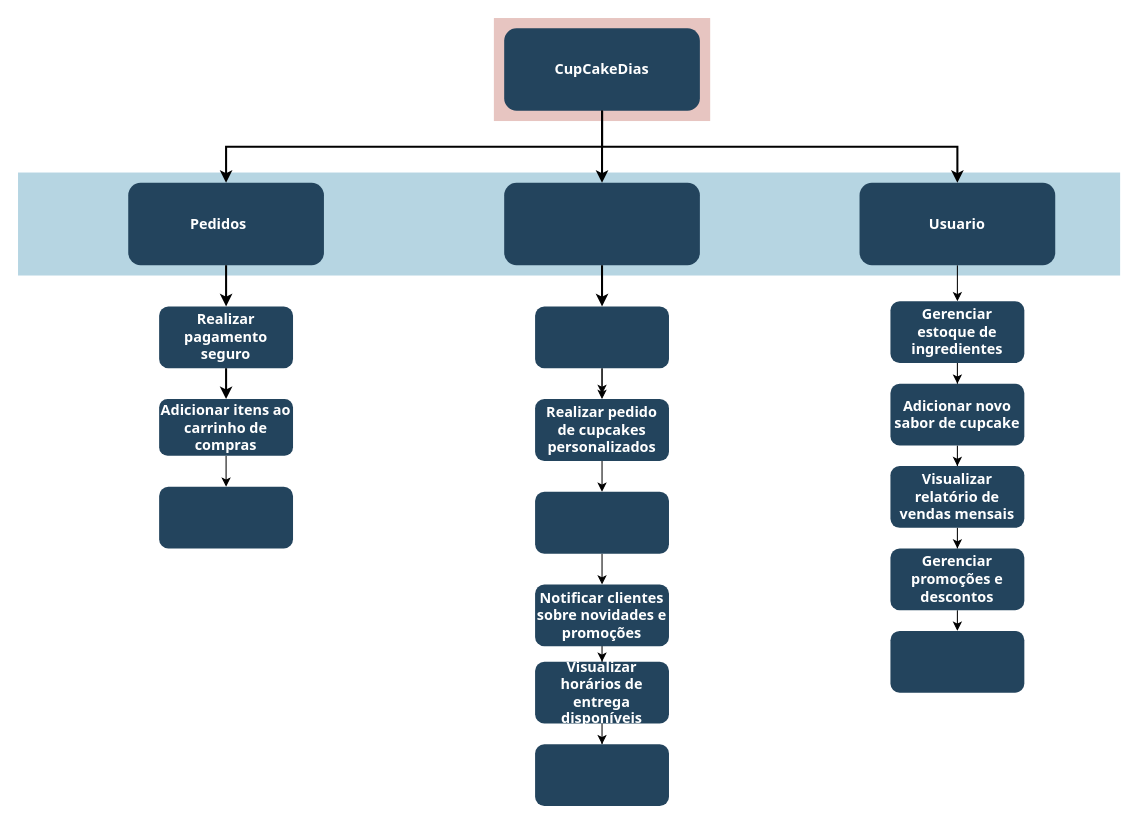
The diagram is 1137 pixels wide and 823 high, and some of its shapes have lost their labels. Here are the shapes that lost their labels. From the top down, the centre of each, then its label:
the point at 601,223: Cliente
the point at 601,337: Manter histórico de pedidos
the point at 226,517: Calcular frete automaticamente
the point at 601,522: Visualizar detalhes do produto
the point at 957,661: Recuperar senha esquecida
the point at 601,774: Visualizar perfil do cliente
